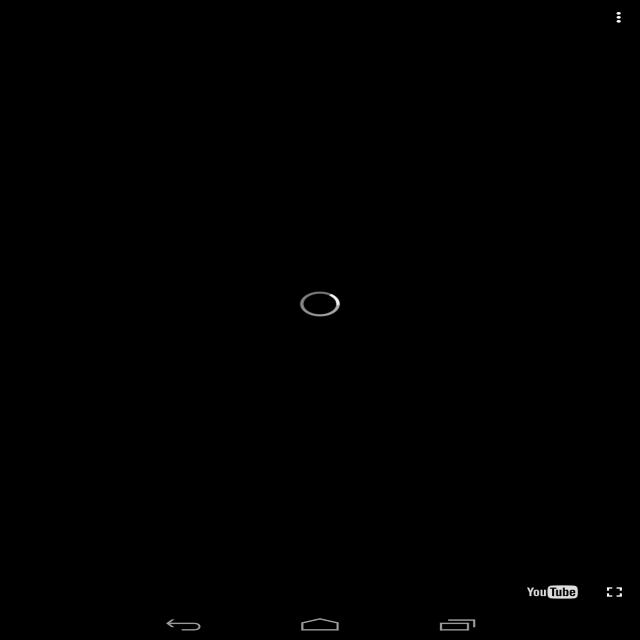ImageButton: (598, 9, 629, 31)
Spinner: (288, 287, 354, 322)
